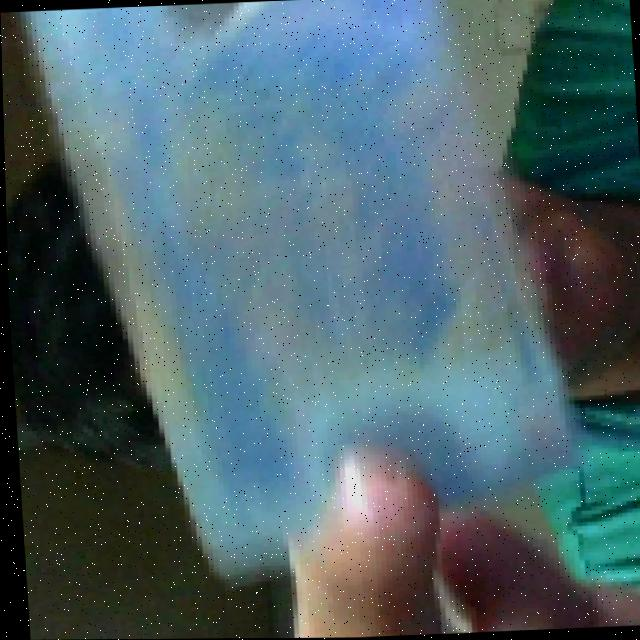20 000 VND: (0, 0, 586, 597)
